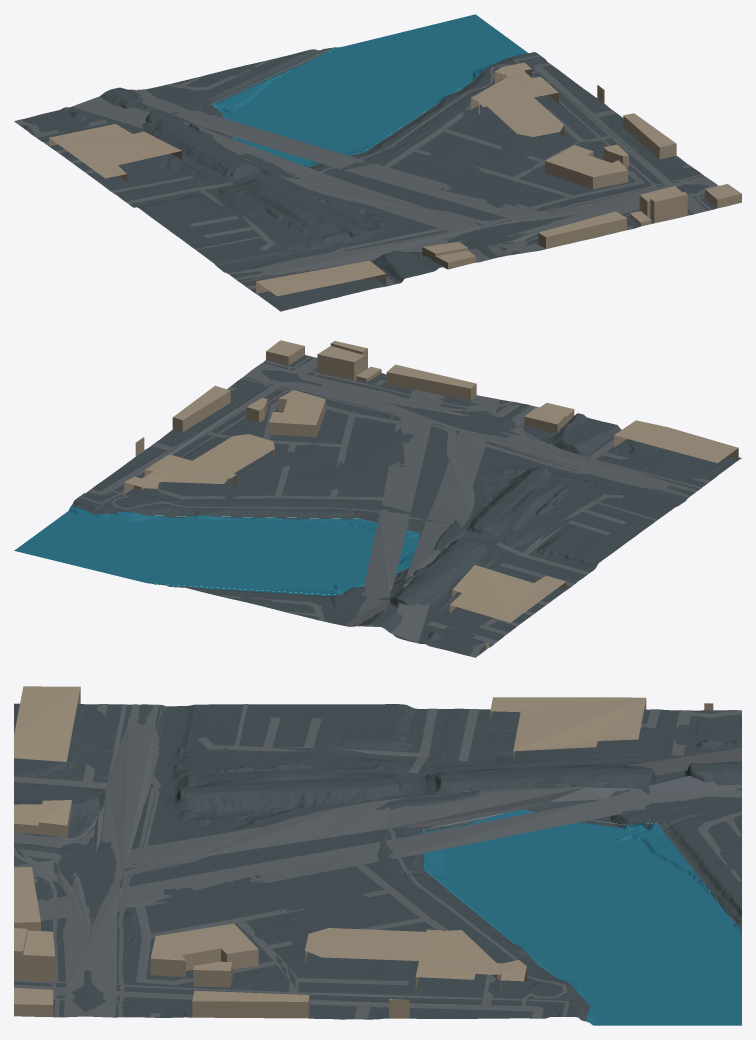
The model's file is epsg26910-1441-10880.lod0.glb.
3 renders of one model, top to bottom at view 1: azimuth 30°, elevation 25°; view 2: azimuth 150°, elevation 25°; view 3: azimuth 270°, elevation 25°, orthographic. The views are drawn at different scales.
Visible parts, largest first — view 1: epsg26910-1441-10880-lod0; view 2: epsg26910-1441-10880-lod0; view 3: epsg26910-1441-10880-lod0.
Part boxes in pixels (x1=…): epsg26910-1441-10880-lod0: x1=14, y1=14, x2=741, y2=311; epsg26910-1441-10880-lod0: x1=14, y1=340, x2=741, y2=657; epsg26910-1441-10880-lod0: x1=14, y1=686, x2=741, y2=1025.
Bounding box in the file's own units: 384 × 22.86 × 384.
